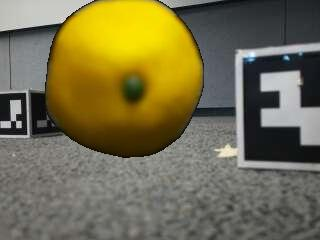lemon: (45, 0, 202, 155)
